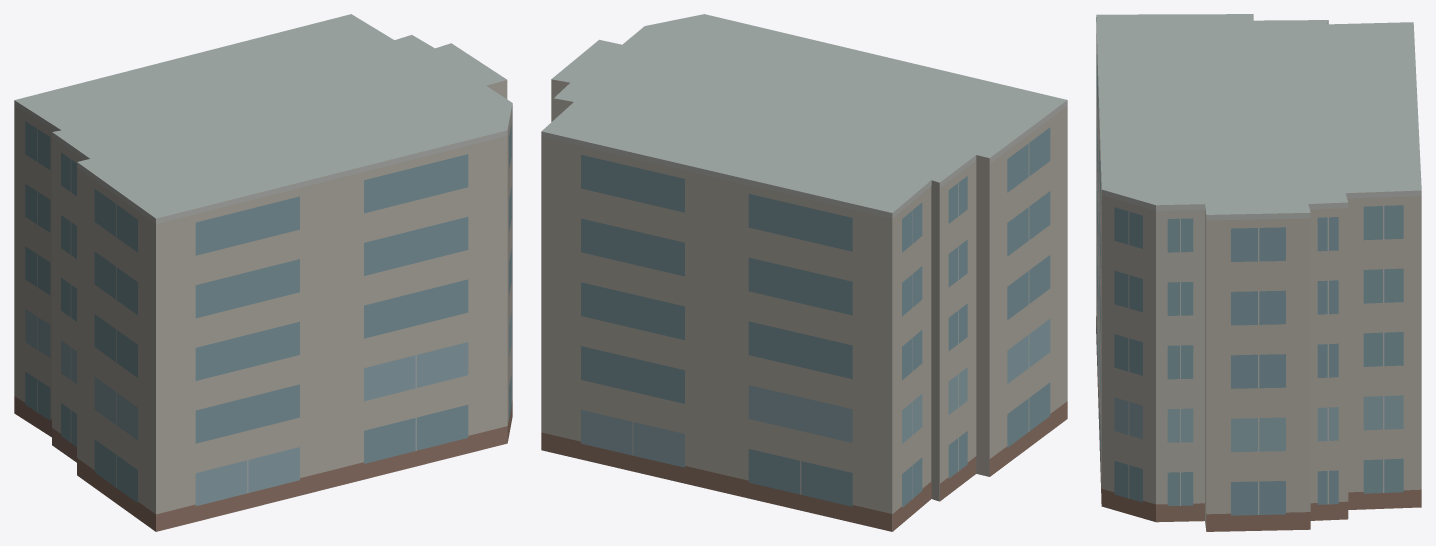
The model's file is survey-upis-32673413.glb.
3 renders of one model, left to right at view 1: azimuth 30°, elevation 25°; view 2: azimuth 150°, elevation 25°; view 3: azimuth 270°, elevation 25°, orthographic.
Visible parts, largest first — view 1: survey-upis-32673413.tmp; view 2: survey-upis-32673413.tmp; view 3: survey-upis-32673413.tmp.
Boxes of the visible parts, bbox=[...] form: survey-upis-32673413.tmp: bbox=[14, 14, 512, 531]; survey-upis-32673413.tmp: bbox=[541, 14, 1067, 531]; survey-upis-32673413.tmp: bbox=[1096, 14, 1421, 531].
Size of the model in its own units: 18.91 by 13.9 by 12.95.
